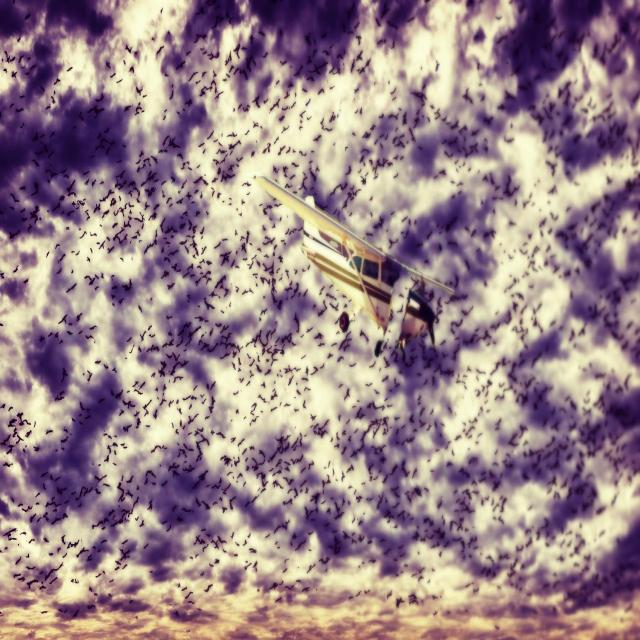airplane: (253, 173, 456, 356)
